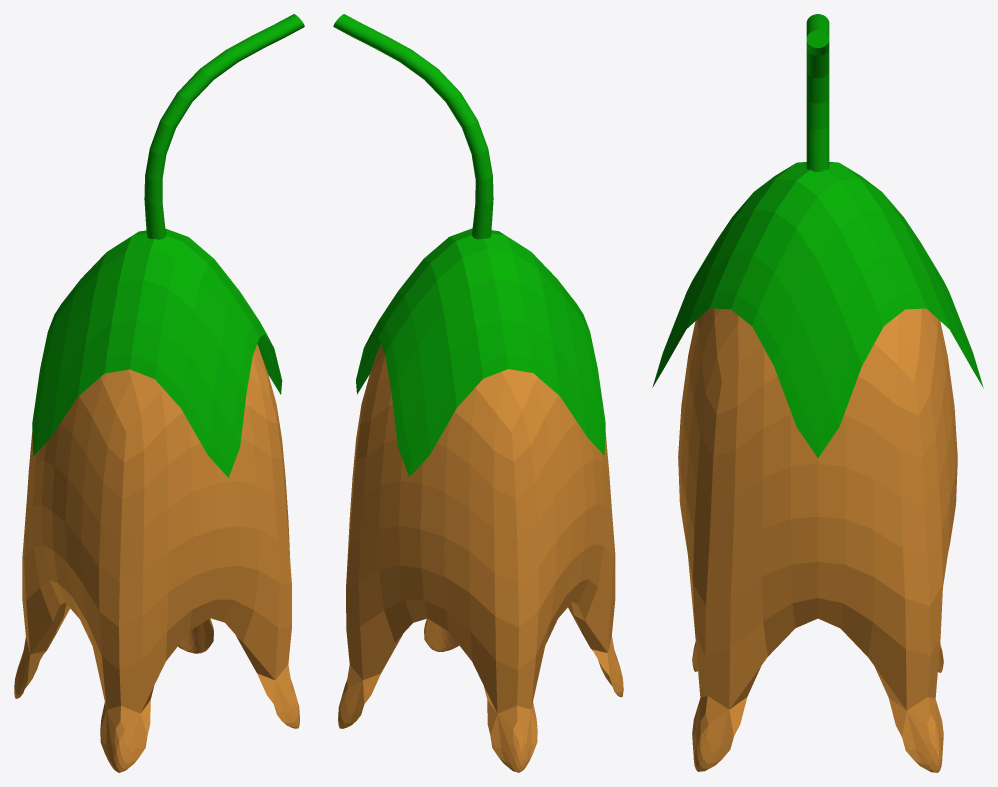
Rendered from ホタルブクロオレンジ色.fbx.
3 views of the same model, side by side, from view 1: azimuth 30°, elevation 25°; view 2: azimuth 150°, elevation 25°; view 3: azimuth 270°, elevation 25° (orthographic). The views are drawn at different scales.
Visible parts, largest first — view 1: Cube.001, Cube, Cylinder; view 2: Cube.001, Cube, Cylinder; view 3: Cube.001, Cube, Cylinder.
Boxes of the visible parts, left/top/right/bottom form: Cube.001: left=14, top=344, right=299, bottom=772; Cube: left=32, top=228, right=282, bottom=477; Cylinder: left=144, top=14, right=304, bottom=239; Cube.001: left=338, top=344, right=623, bottom=772; Cube: left=356, top=228, right=605, bottom=477; Cylinder: left=333, top=14, right=493, bottom=239; Cube.001: left=678, top=308, right=957, bottom=772; Cube: left=652, top=162, right=983, bottom=457; Cylinder: left=806, top=14, right=829, bottom=171.
Bounding box in the file's own units: 337 × 797 × 311.
